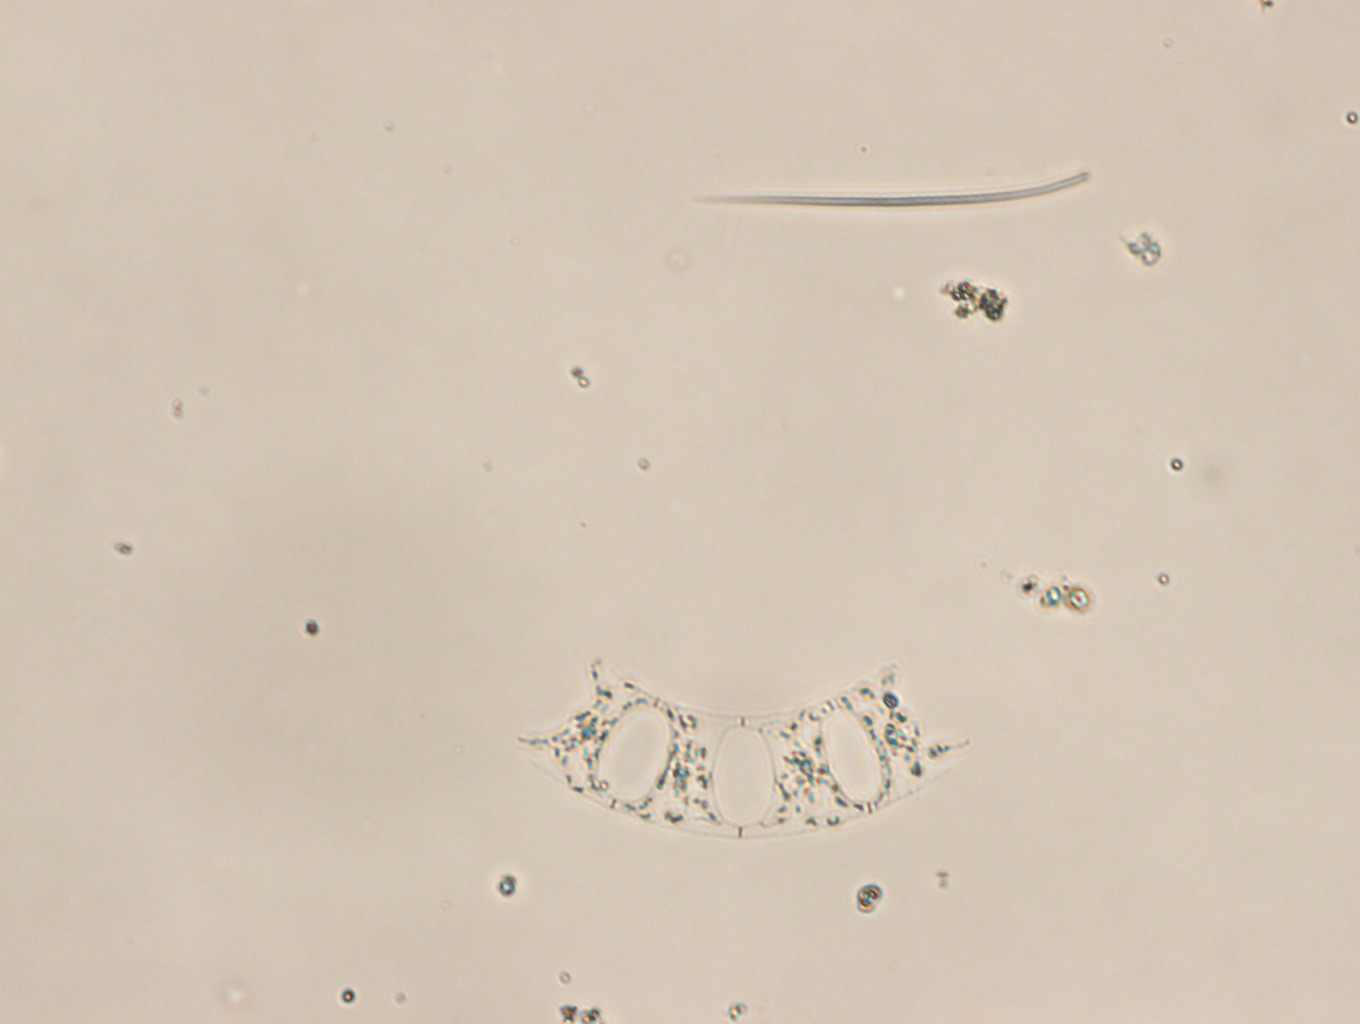eucampia: (518, 654, 972, 842)
